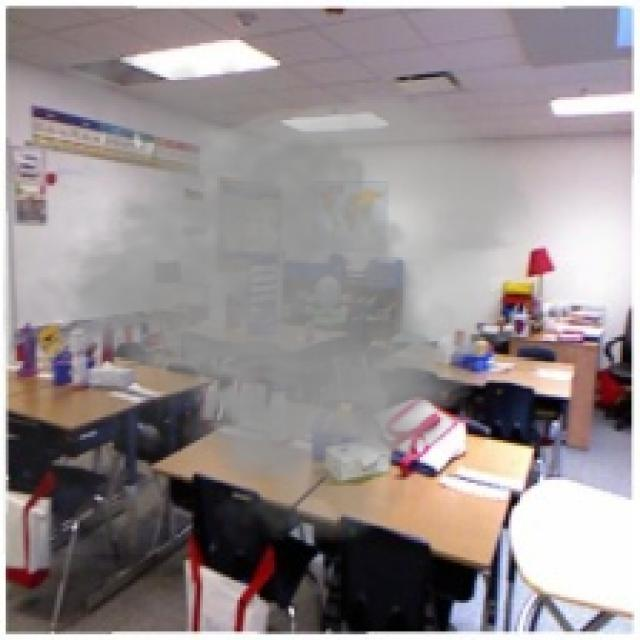smoke: (3, 34, 534, 554)
